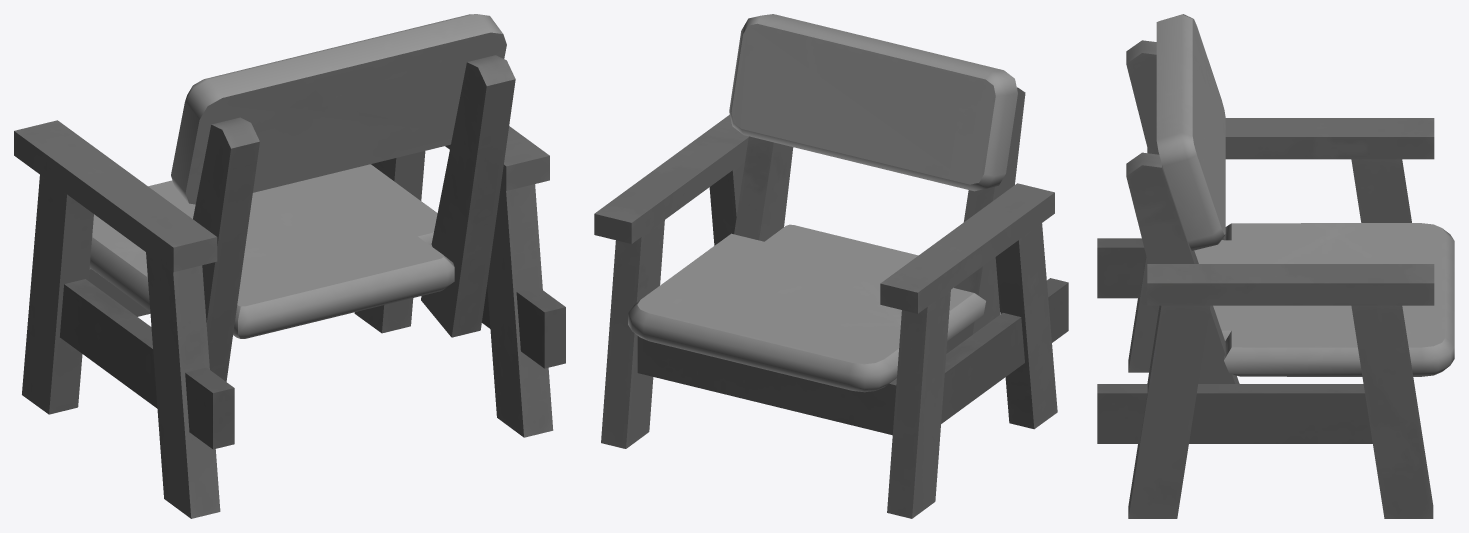
Rendered from Pfb_Chair__13.fbx.
3 renders of one model, left to right at view 1: azimuth 30°, elevation 25°; view 2: azimuth 150°, elevation 25°; view 3: azimuth 270°, elevation 25°, orthographic. The views are drawn at different scales.
Visible parts, largest first — view 1: Mat_Chair_02_White; view 2: Mat_Chair_02_White; view 3: Mat_Chair_02_White.
Boxes of the visible parts, x1,y1,x2,y2 form: Mat_Chair_02_White: (14, 14, 565, 518); Mat_Chair_02_White: (594, 14, 1068, 518); Mat_Chair_02_White: (1097, 14, 1454, 518).
Bounding box in the file's own units: 0.9492 × 0.9792 × 0.8677.
1 material, 1 textured.
